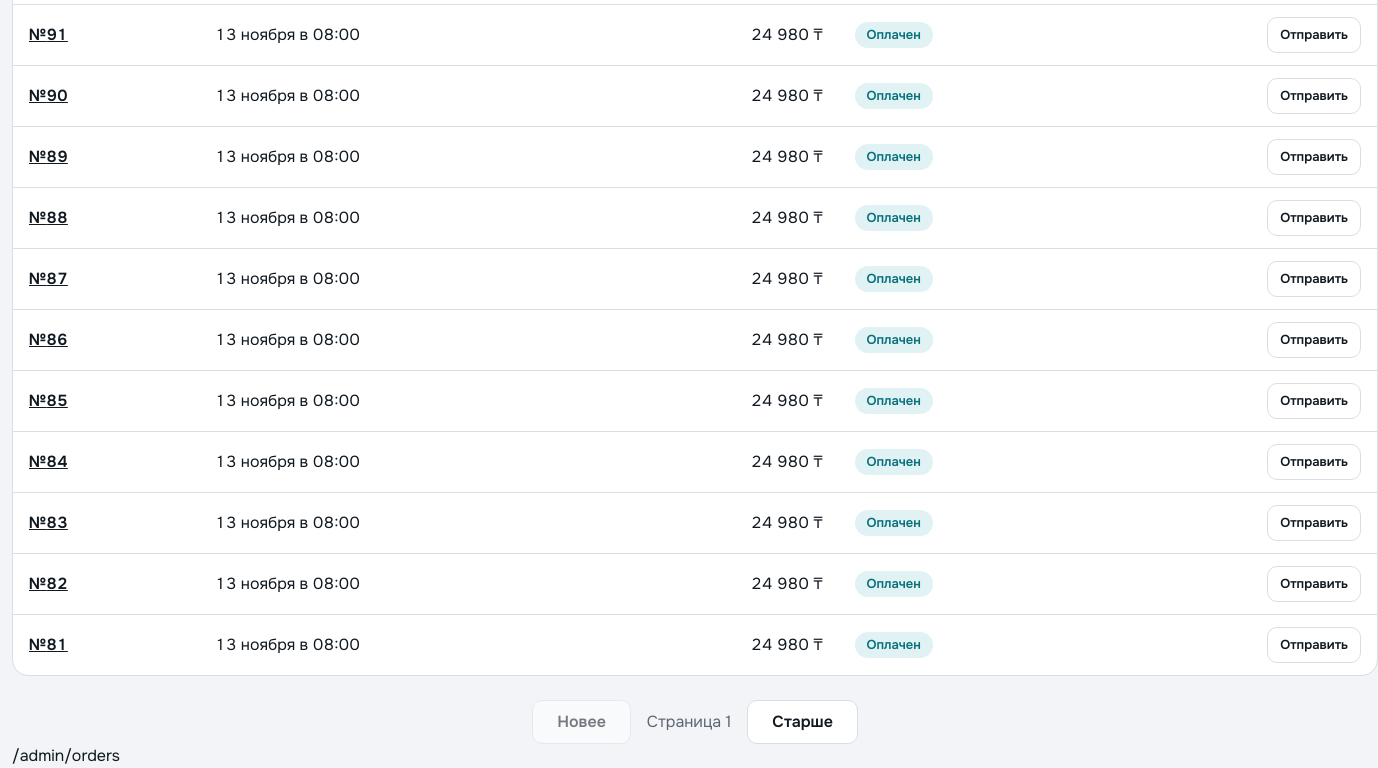
Test: есть следующая страница, только если сервер вернул лишний заказ
(page scrolled)
Expected: the button "Новее" is disabled, [532, 700, 631, 744]
Click the button "Старше". click: x=803, y=722
box: [747, 700, 858, 744]
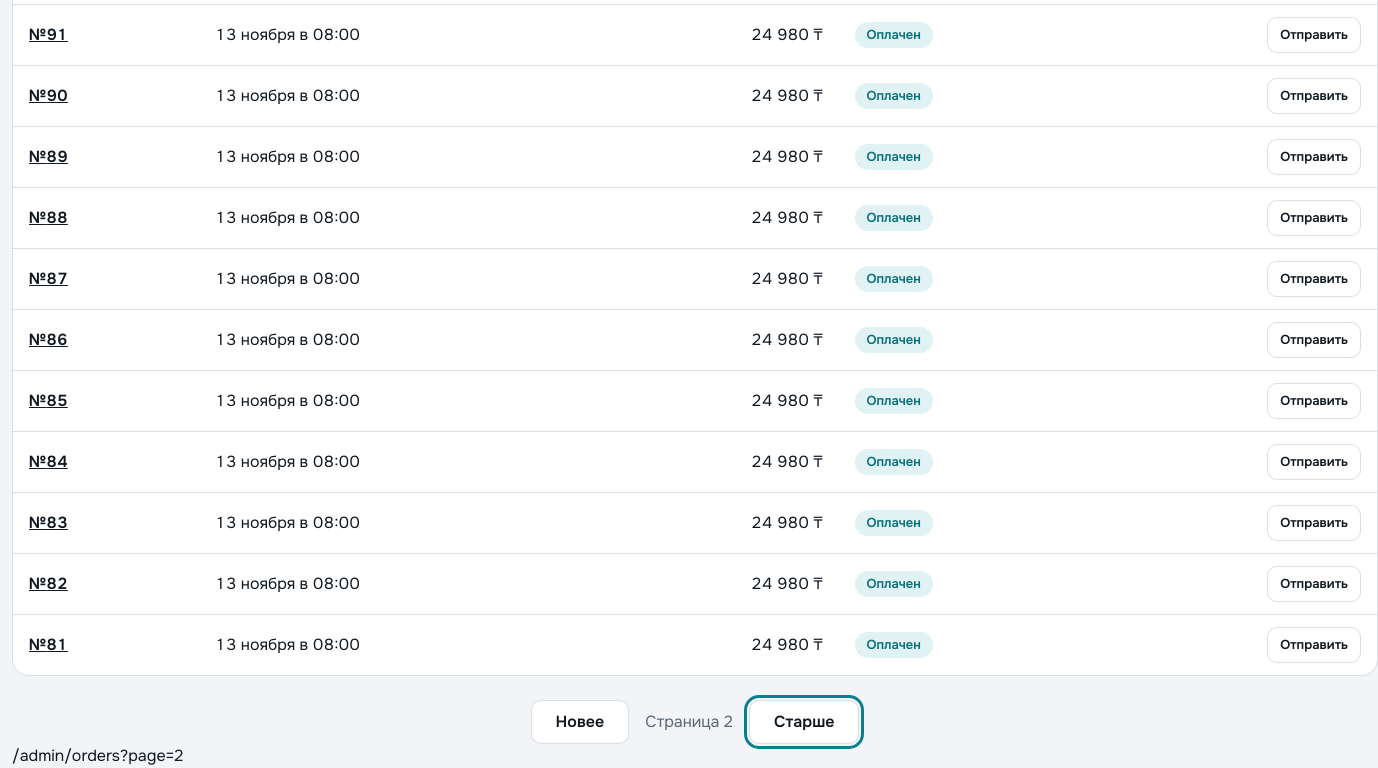
Expected: the text with test id "location" shows "page=2", [12, 744, 183, 766]
